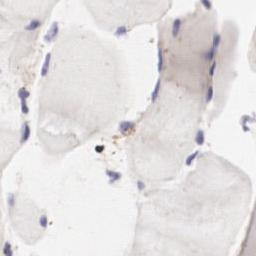nucleus: (43, 21, 59, 43), (17, 88, 30, 114), (239, 112, 256, 131), (41, 51, 51, 77), (21, 121, 31, 146), (118, 121, 135, 135), (151, 79, 160, 105), (186, 150, 199, 166), (173, 18, 182, 38), (106, 169, 120, 181), (113, 26, 128, 37), (3, 241, 14, 256), (195, 128, 205, 144), (25, 20, 42, 29), (200, 50, 217, 59), (158, 47, 164, 72), (206, 85, 214, 101), (7, 192, 15, 207), (213, 34, 221, 48), (201, 1, 212, 10), (40, 214, 47, 228), (210, 62, 215, 77), (138, 181, 145, 190)
positive_cell: (117, 120, 137, 138)
